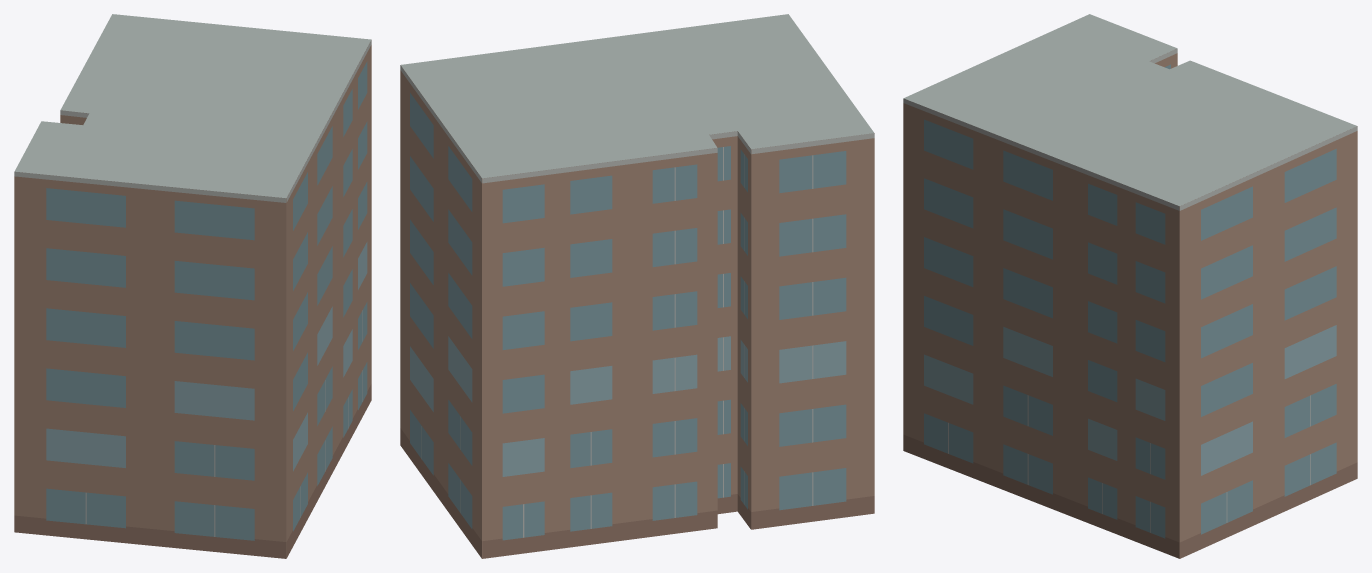
Rendered from survey-upis-32891005.glb.
The picture shows the model from 3 angles, left to right: view 1: azimuth 30°, elevation 25°; view 2: azimuth 150°, elevation 25°; view 3: azimuth 270°, elevation 25°; orthographic projection. The views are drawn at different scales.
Parts seen in each view (by area): view 1: survey-upis-32891005.tmp; view 2: survey-upis-32891005.tmp; view 3: survey-upis-32891005.tmp.
Part boxes in pixels (box(x1,y1,x2,y2)): survey-upis-32891005.tmp: box(14, 14, 371, 558); survey-upis-32891005.tmp: box(400, 14, 874, 558); survey-upis-32891005.tmp: box(903, 14, 1357, 558).
Bounding box in the file's own units: 21.54 × 18.4 × 21.49.
